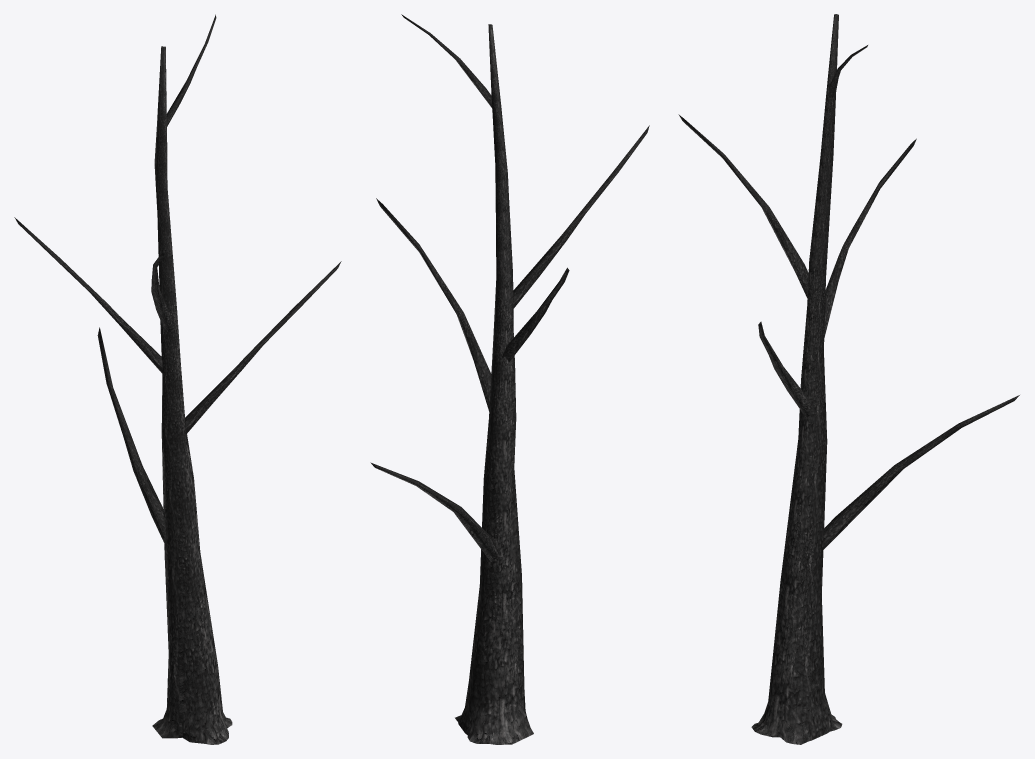
File: tree_9.obj
3 renders of one model, left to right at view 1: azimuth 30°, elevation 25°; view 2: azimuth 150°, elevation 25°; view 3: azimuth 270°, elevation 25°, orthographic. The views are drawn at different scales.
Parts seen in each view (by area): view 1: tree_9; view 2: tree_9; view 3: tree_9.
Part boxes in pixels (<box>): tree_9: <box>14,14,341,744</box>; tree_9: <box>370,14,649,744</box>; tree_9: <box>678,14,1019,744</box>.
Size of the model in its own units: 1.75 by 4.47 by 1.96.
